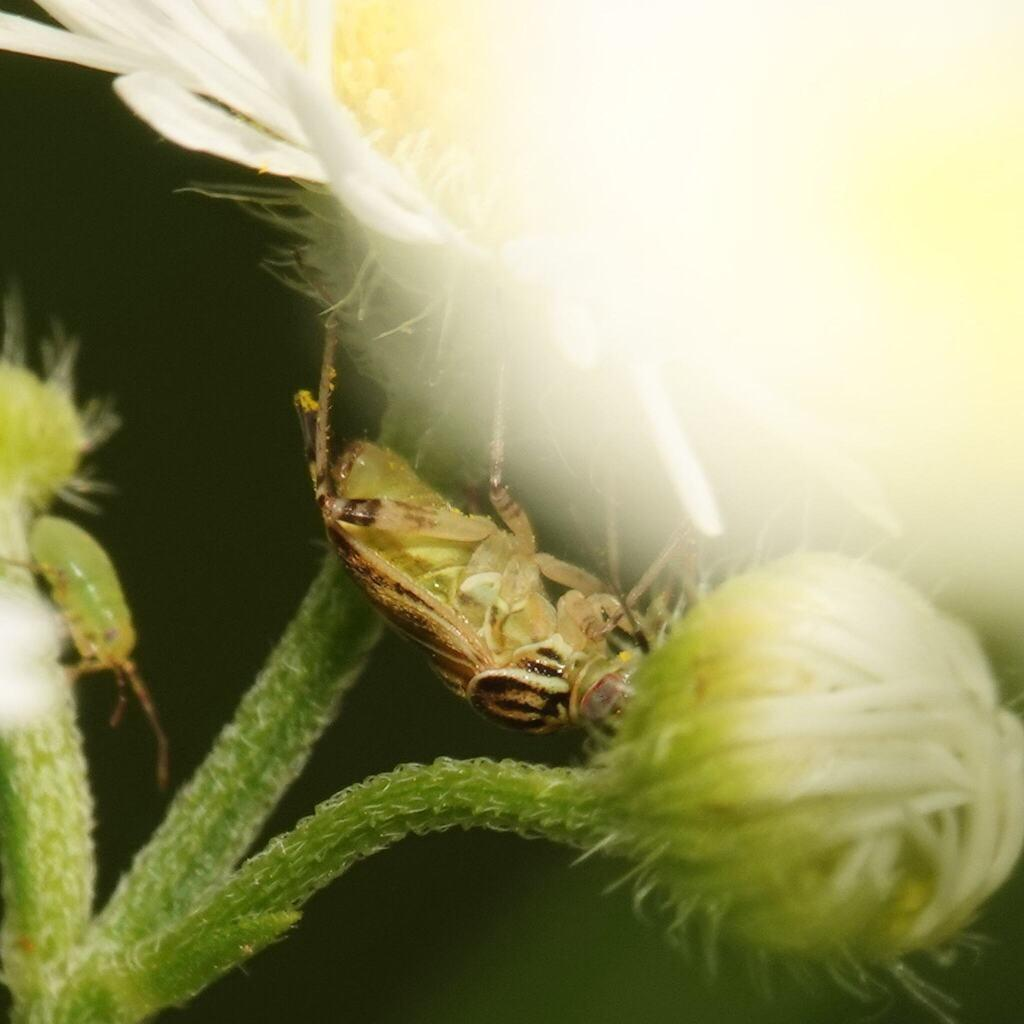plant_bugs: (220, 284, 722, 784)
